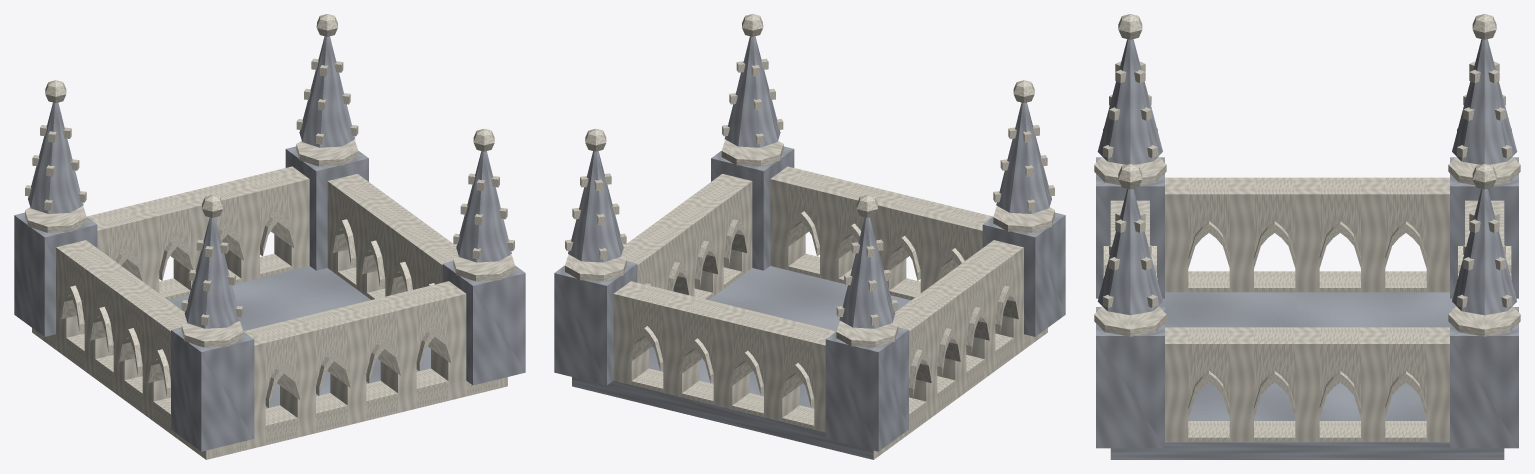
3 renders of one model, left to right at view 1: azimuth 30°, elevation 25°; view 2: azimuth 150°, elevation 25°; view 3: azimuth 270°, elevation 25°, orthographic. The views are drawn at different scales.
Visible parts, largest first — view 1: bell-tower-parapet; view 2: bell-tower-parapet; view 3: bell-tower-parapet.
Boxes of the visible parts, x1,y1,x2,y2 form: bell-tower-parapet: (14, 14, 525, 459); bell-tower-parapet: (554, 14, 1065, 459); bell-tower-parapet: (1094, 14, 1520, 459).
Bounding box in the file's own units: 4.34 × 3.22 × 4.34.
2 materials, 2 textured.
